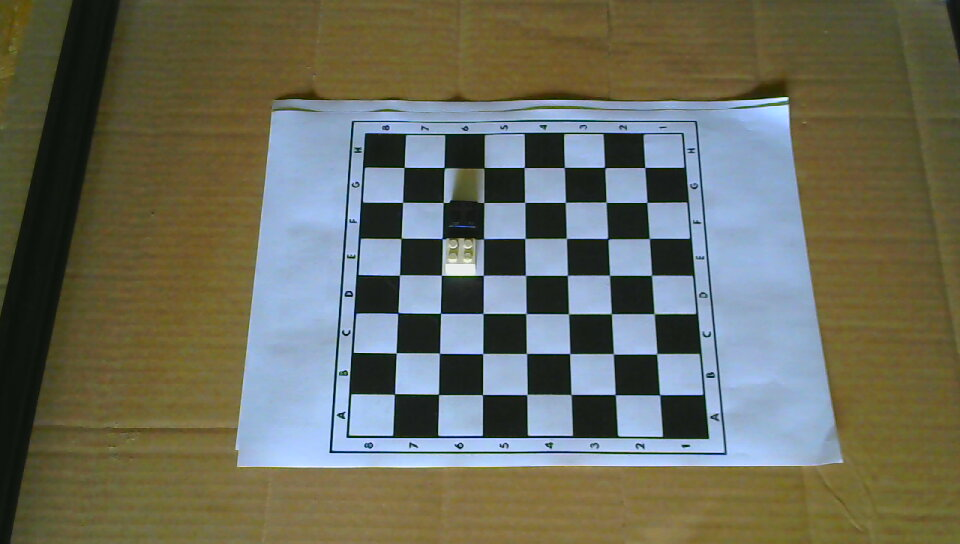bp: (446, 196, 482, 236)
wp: (443, 237, 480, 275)
